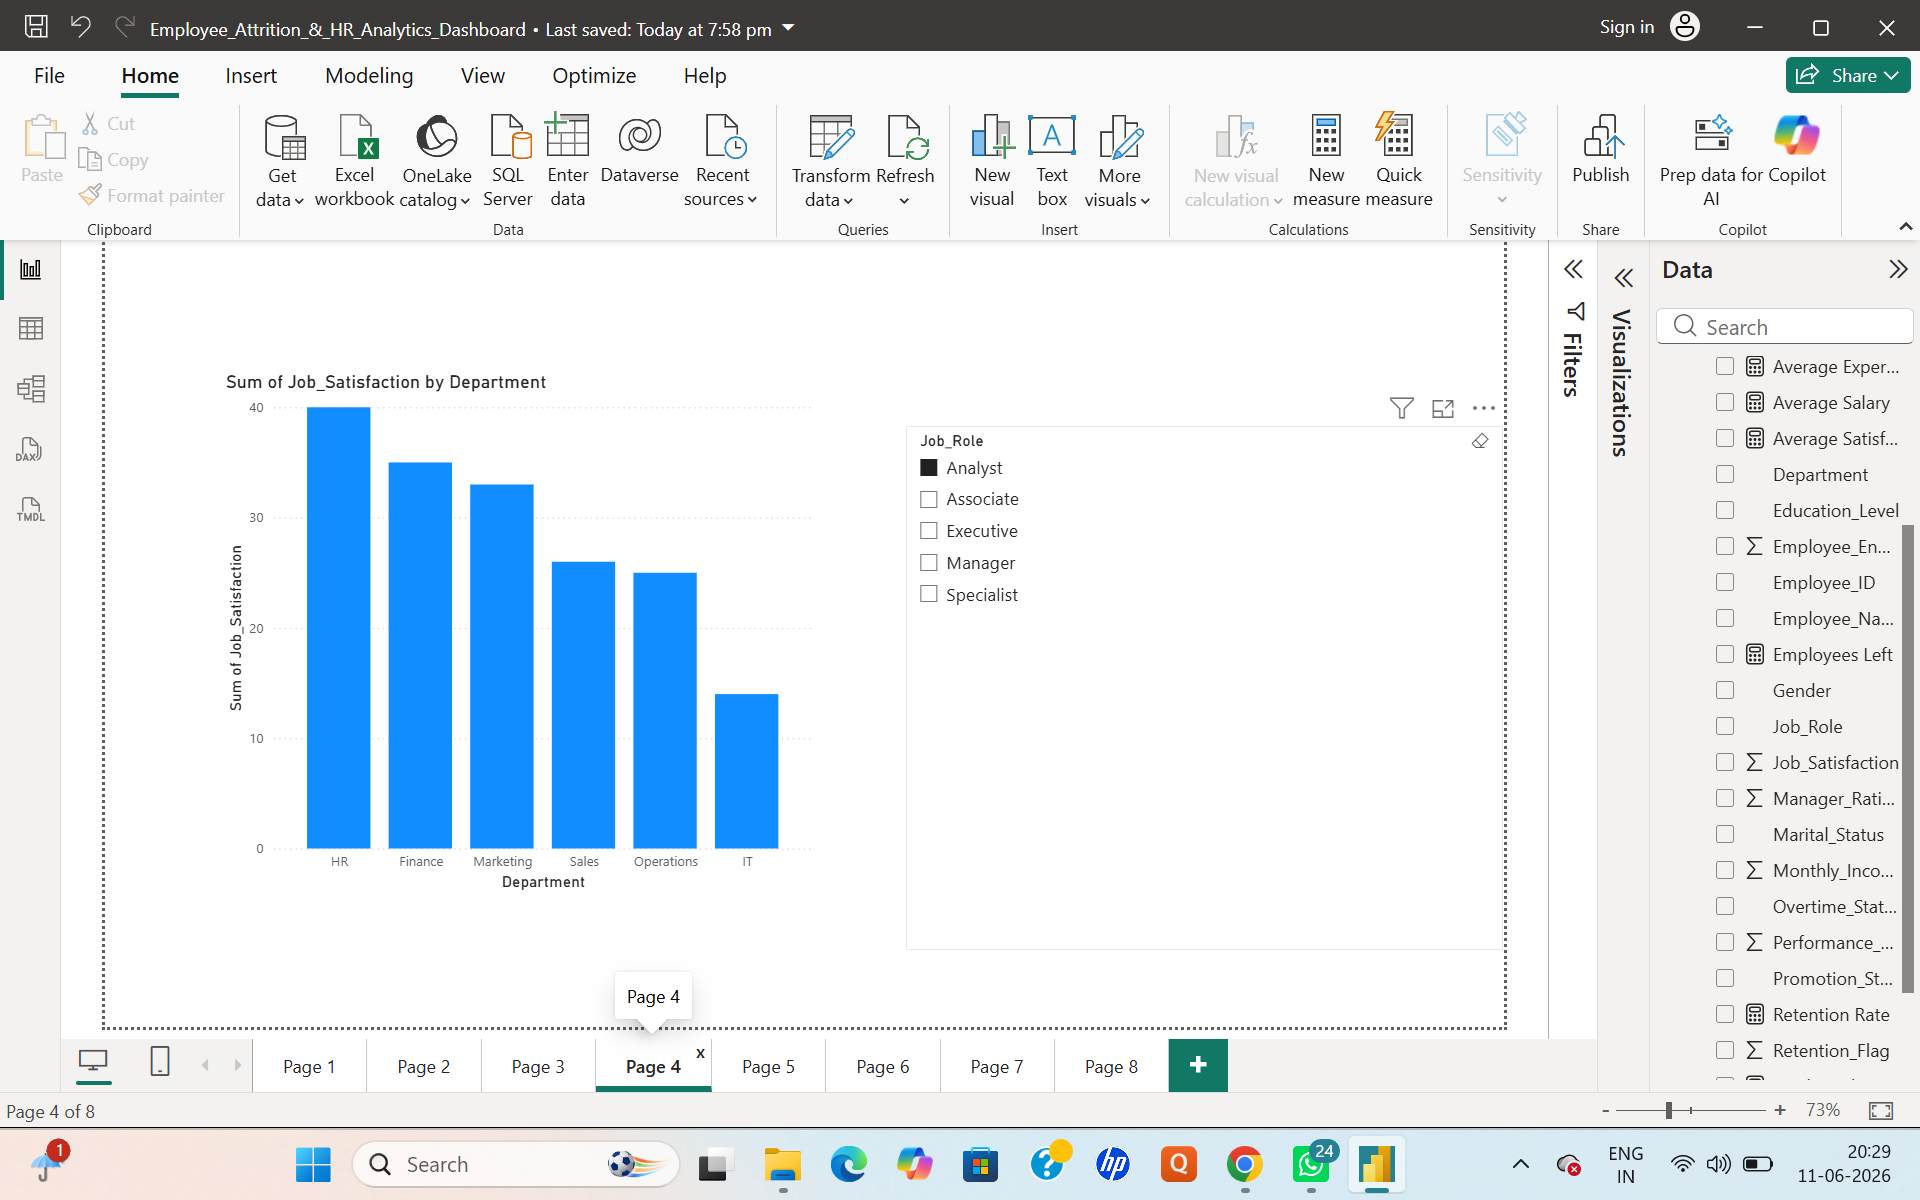

This screenshot's page, from the dashboard's own definition file:
{"tool":"powerbi","page":{"name":"Page 4","canvas":[1280,720],"ordinal":3},"visuals":[{"type":"clusteredColumnChart","fields":{"Category":["Final_HR_Analytics_Dataset.Department"],"Y":["Sum(Final_HR_Analytics_Dataset.Job_Satisfaction)"]},"box":[106,119.6,546.6,480],"z":0},{"type":"slicer","fields":{"Values":["Final_HR_Analytics_Dataset.Job_Role"]},"box":[732.9,169.6,546.6,480],"z":1}]}

Visuals, with their boxes on the page's 1280x720 design canvas (x1, y1, x2, y2). These are canvas units, not pixel positions in the 1920x1200 screenshot, which may show the page scaled, cropped or inside an application window:
clusteredColumnChart - Final_HR_Analytics_Dataset.Department x Sum(Final_HR_Analytics_Dataset.Job_Satisfaction): box(106, 120, 653, 600)
slicer - Final_HR_Analytics_Dataset.Job_Role: box(733, 170, 1280, 650)
